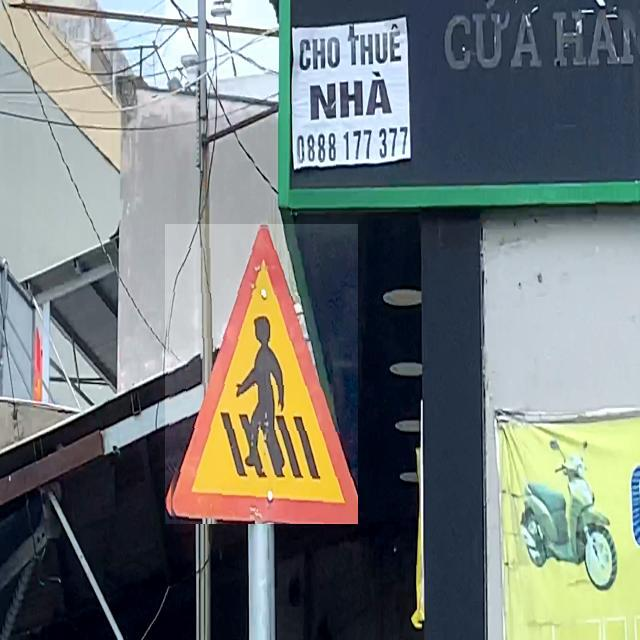W-224: (165, 224, 358, 524)
